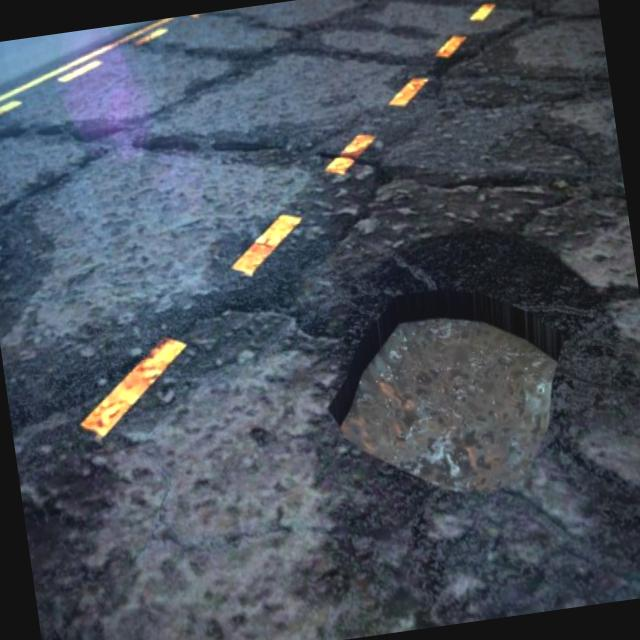bad-road: (301, 206, 640, 513)
